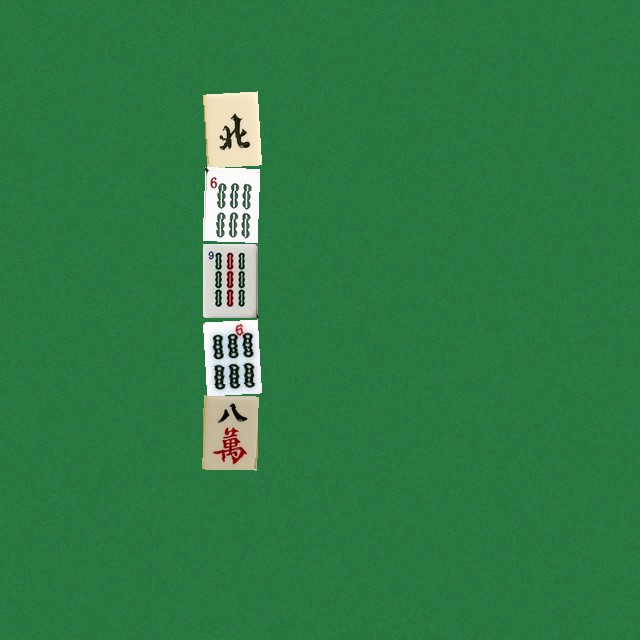tile: (202, 91, 257, 165), (202, 167, 257, 241), (202, 243, 257, 317), (202, 319, 257, 393), (202, 395, 257, 469)
